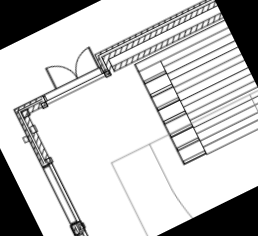double door: (42, 44, 102, 92)
wall: (100, 0, 217, 64), (110, 11, 223, 74), (18, 107, 55, 167), (22, 97, 50, 118), (99, 53, 118, 77)
